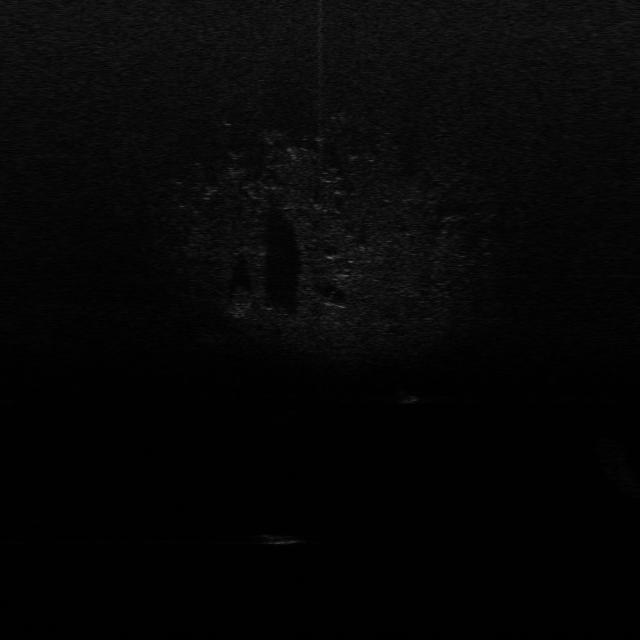cube: (253, 532, 307, 548)
square cage: (396, 390, 420, 406)
